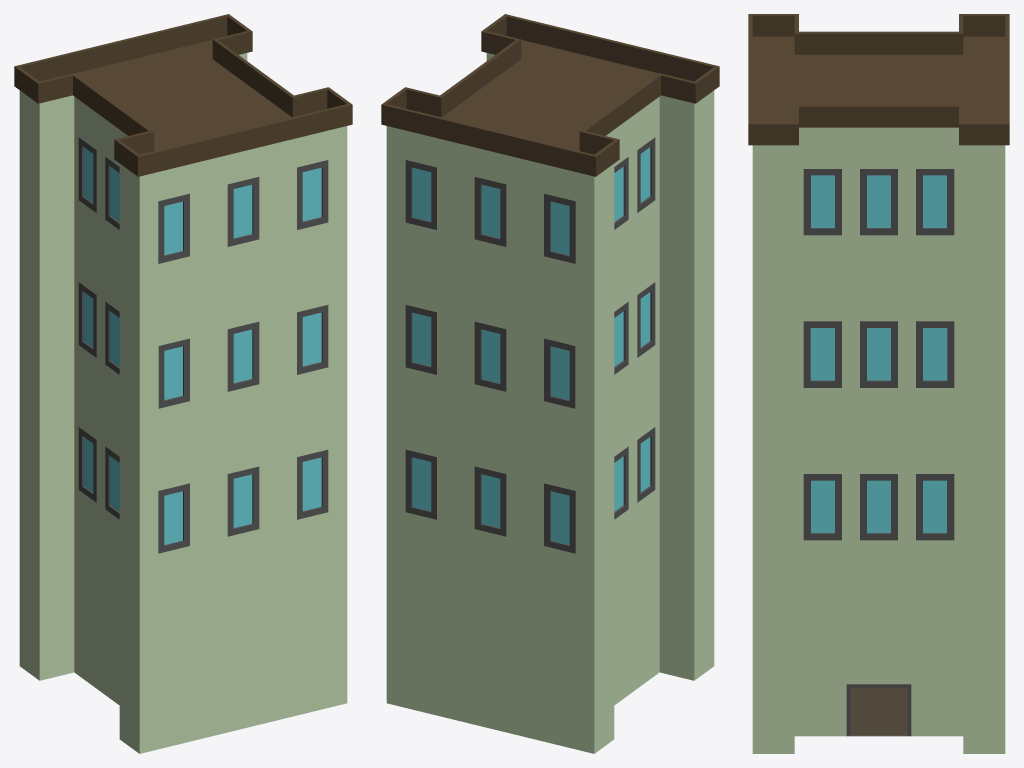
File: random res build 9.fbx
3 renders of one model, left to right at view 1: azimuth 30°, elevation 25°; view 2: azimuth 150°, elevation 25°; view 3: azimuth 270°, elevation 25°, orthographic. The views are drawn at different scales.
Visible parts, largest first — view 1: building_009; view 2: building_009; view 3: building_009.
Boxes of the visible parts, x1=… form: building_009: x1=14, y1=14, x2=352, y2=753; building_009: x1=381, y1=14, x2=719, y2=753; building_009: x1=748, y1=14, x2=1009, y2=753.
Bounding box in the file's own units: 4364 × 11649 × 4364.
